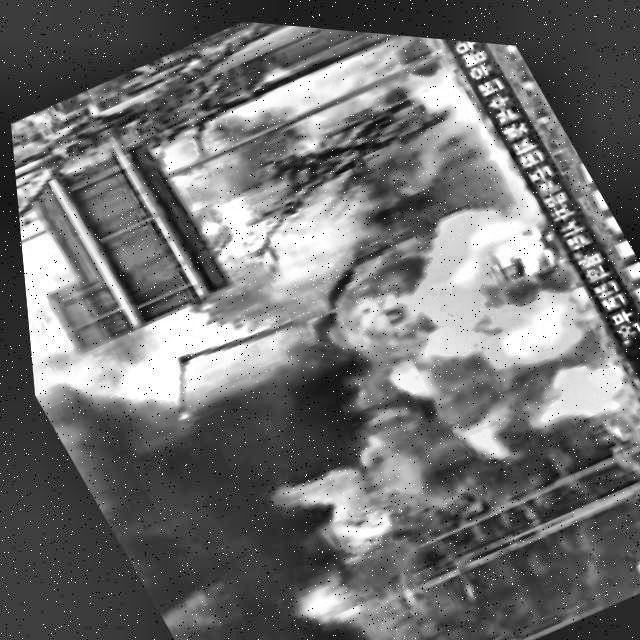Fire: (268, 145, 640, 520), (295, 21, 437, 133)
Smoke: (19, 267, 471, 640)
